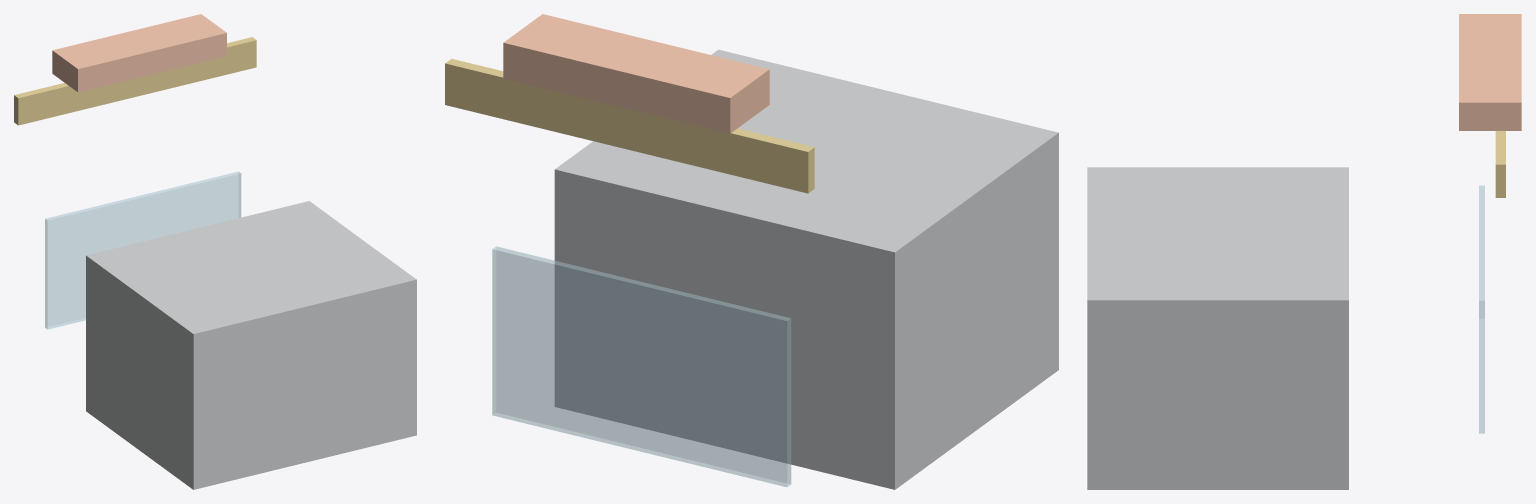
The model's file is reef-shop.glb.
The picture shows the model from 3 angles, left to right: view 1: azimuth 30°, elevation 25°; view 2: azimuth 150°, elevation 25°; view 3: azimuth 270°, elevation 25°; orthographic projection. The views are drawn at different scales.
Parts seen in each view (by area): view 1: Cube.008, Cube.009, Cube.013, Cube.010; view 2: Cube.008, Cube.009, Cube.013, Cube.010; view 3: Cube.008, Cube.013, Cube.009, Cube.010.
Part boxes in pixels (box(x1,y1,x2,y2)): Cube.008: box(86, 201, 416, 489); Cube.009: box(45, 171, 241, 329); Cube.013: box(52, 14, 226, 92); Cube.010: box(14, 37, 256, 125); Cube.008: box(554, 49, 1058, 489); Cube.009: box(492, 246, 791, 486); Cube.013: box(503, 14, 769, 133); Cube.010: box(445, 58, 814, 193); Cube.008: box(1087, 167, 1348, 489); Cube.013: box(1459, 14, 1521, 130); Cube.009: box(1479, 185, 1484, 433); Cube.010: box(1495, 131, 1505, 197).
Size of the model in its own units: 3.2 by 3.85 by 4.15.
